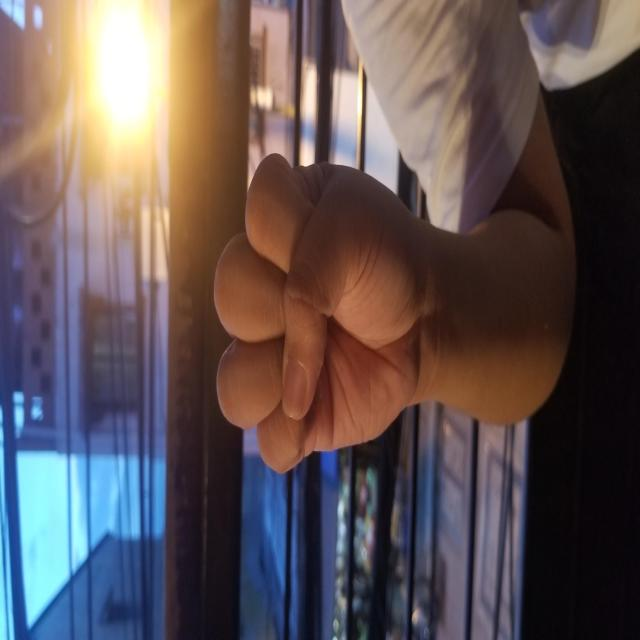S: (165, 212, 492, 422)
